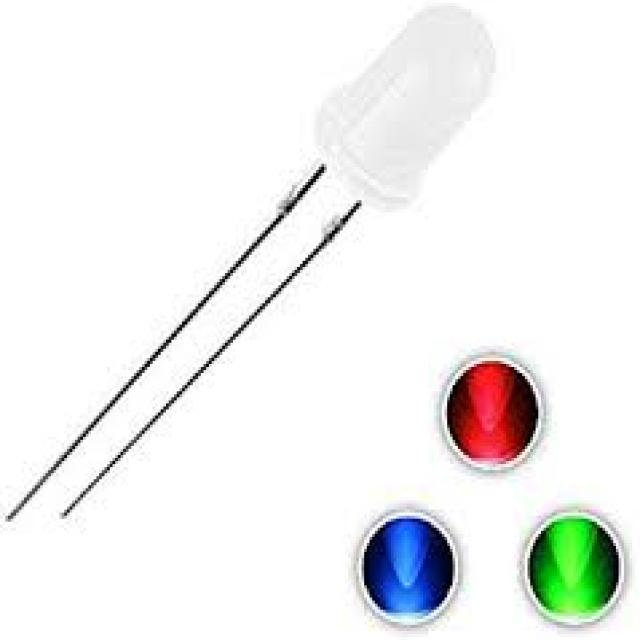Led: (161, 5, 494, 411)
